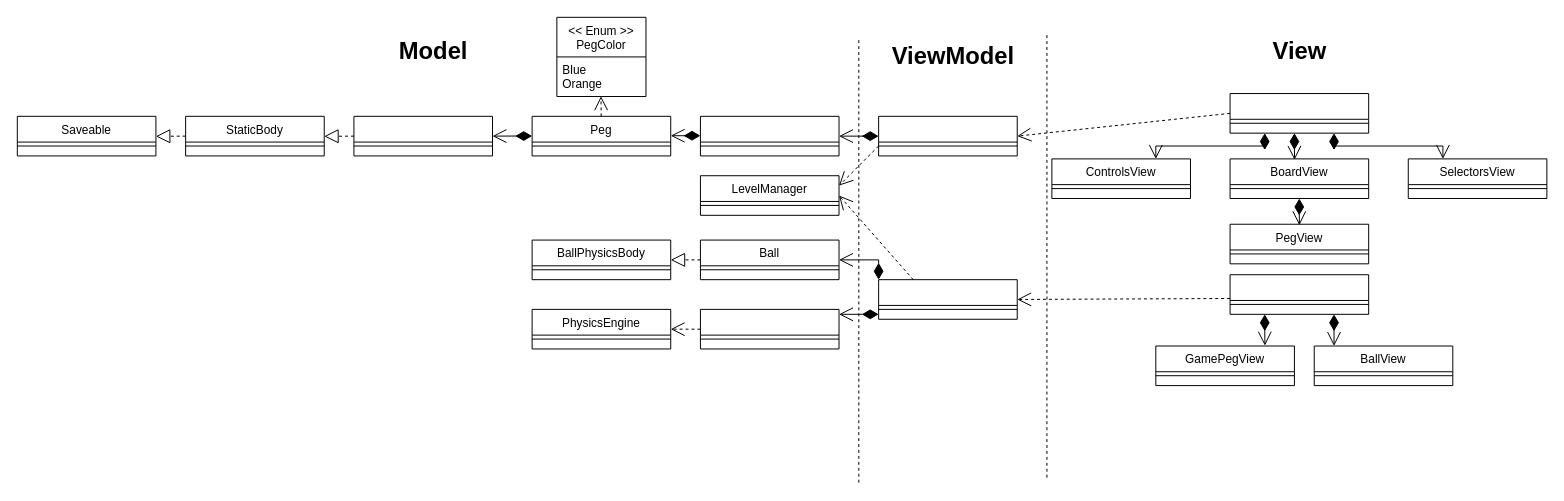
This 1564x501 diagram has some shape labels left out. The shapes that lost their labels are listed below. From the top down, each one's centre as x and y in pixels, then its label:
At pixel 1299 113: "LevelDesignerView".
At pixel 423 135: "CircleStaticBody".
At pixel 769 135: "Level".
At pixel 947 135: "LevelDesignerViewModel".
At pixel 947 299: "GameViewModel".
At pixel 1299 294: "GameView".
At pixel 769 328: "GameEngine".
